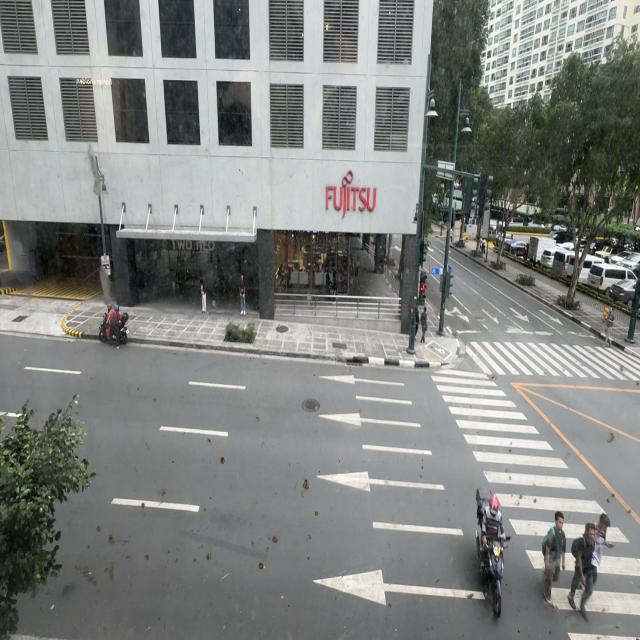crossing: (538, 495, 567, 619), (569, 523, 599, 620), (588, 492, 615, 599), (582, 514, 615, 598), (574, 513, 599, 619), (606, 296, 614, 352), (604, 311, 614, 347)
pedestrain: (239, 274, 247, 316), (420, 307, 428, 345), (354, 259, 360, 288), (332, 272, 338, 296)
